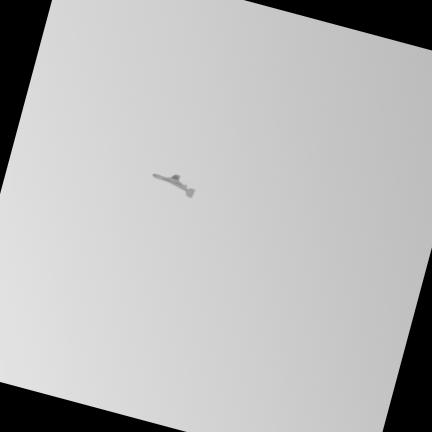Shahed: (152, 173, 193, 197)
